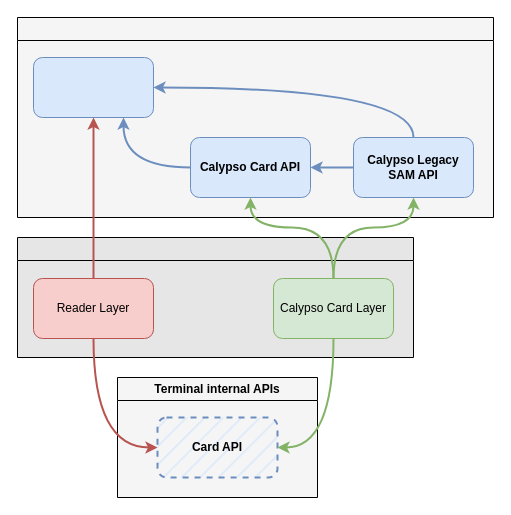
This 511x515 diagram has some shape labels left out. The shapes that lost their labels are listed below. From the top down, each one's box as (x1, y1, x2, y2) in pixels, then its label:
(32, 56, 154, 118): Reader API
(16, 16, 494, 218): Terminal public APIs
(16, 236, 414, 358): Certifiable framework
